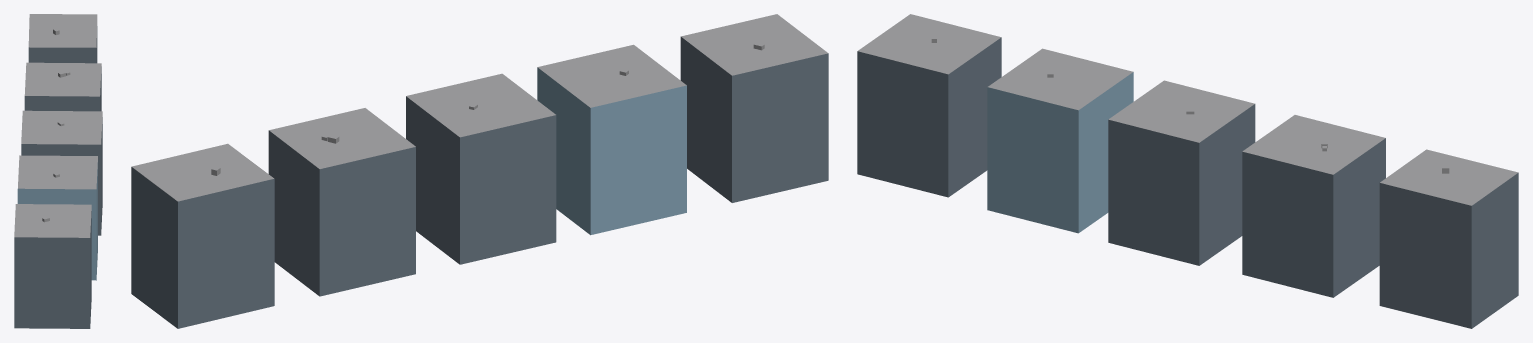
File: building_-2_-4.glb
3 views of the same model, side by side, from view 1: azimuth 30°, elevation 25°; view 2: azimuth 150°, elevation 25°; view 3: azimuth 270°, elevation 25° (orthographic). The views are drawn at different scales.
Parts seen in each view (by area): view 1: roof, glass_dark, glass_blue; view 2: glass_dark, roof, glass_blue; view 3: glass_dark, roof, glass_blue.
Part boxes in pixels (bbox=[...]): roof: bbox=[14, 14, 102, 237]; glass_dark: bbox=[14, 26, 102, 328]; glass_blue: bbox=[17, 162, 97, 280]; glass_dark: bbox=[131, 37, 828, 328]; roof: bbox=[132, 14, 827, 201]; glass_blue: bbox=[537, 67, 686, 235]; glass_dark: bbox=[857, 37, 1518, 328]; roof: bbox=[857, 14, 1518, 205]; glass_blue: bbox=[987, 72, 1133, 233].
Bounding box in the file's own units: 137 × 42.78 × 200.
